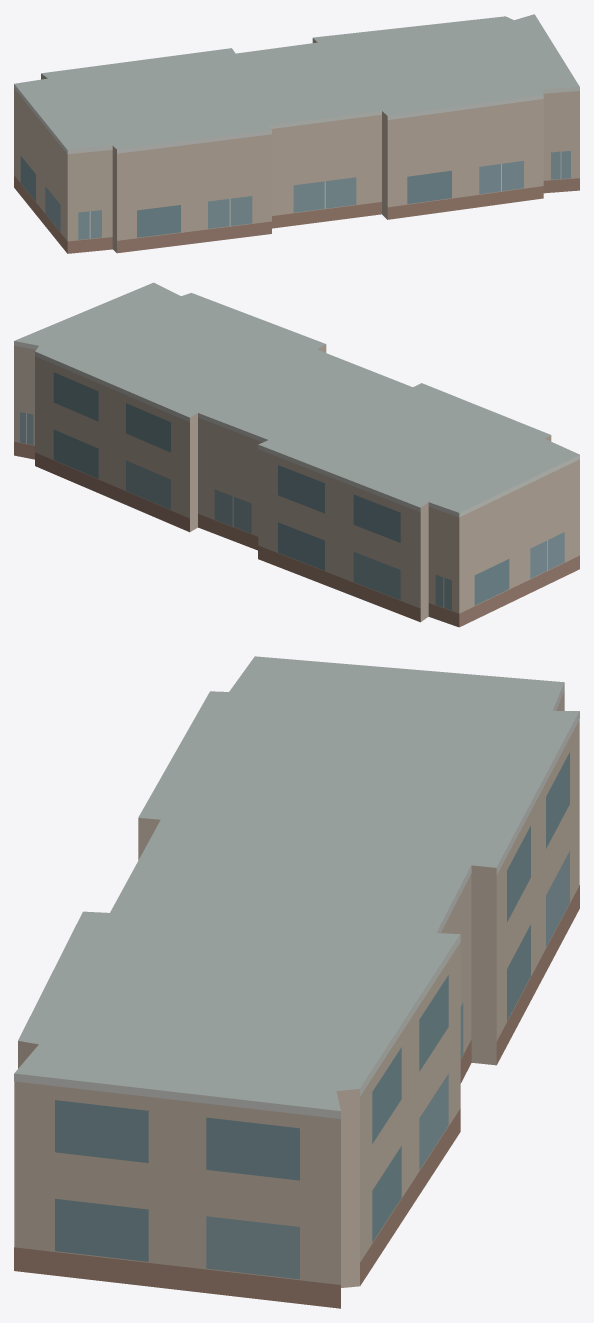
The model's file is survey-upis-32752700.glb.
3 views of the same model, one above another, from view 1: azimuth 30°, elevation 25°; view 2: azimuth 150°, elevation 25°; view 3: azimuth 270°, elevation 25° (orthographic). The views are drawn at different scales.
Parts seen in each view (by area): view 1: survey-upis-32752700.tmp; view 2: survey-upis-32752700.tmp; view 3: survey-upis-32752700.tmp.
Boxes of the visible parts, x1,y1,x2,y2 form: survey-upis-32752700.tmp: (14,14,579,253); survey-upis-32752700.tmp: (14,282,579,627); survey-upis-32752700.tmp: (14,656,579,1308).
Bounding box in the file's own units: 30.15 × 6.1 × 15.85.
